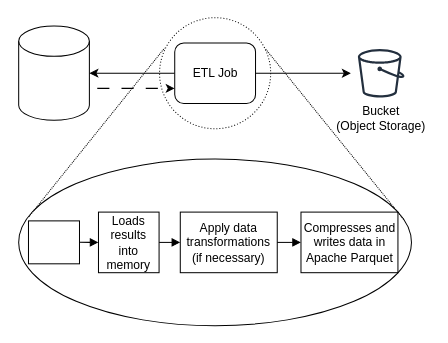
Image size: 448x343. Some labels were removed from this diagram. Here are the shapes that lost their labels. From the top down, the centre of each, then its label:
the point at 53,72: Transactional Database
the point at 53,242: Sends query to DB
